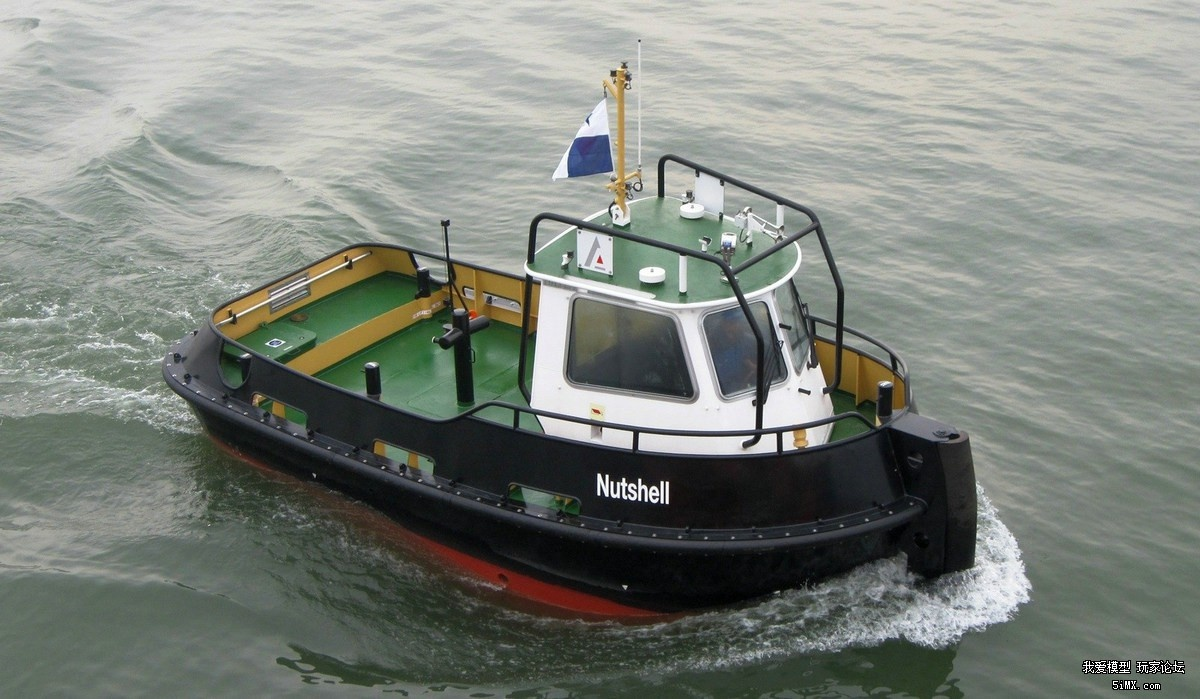otherboat: (142, 52, 999, 609)
